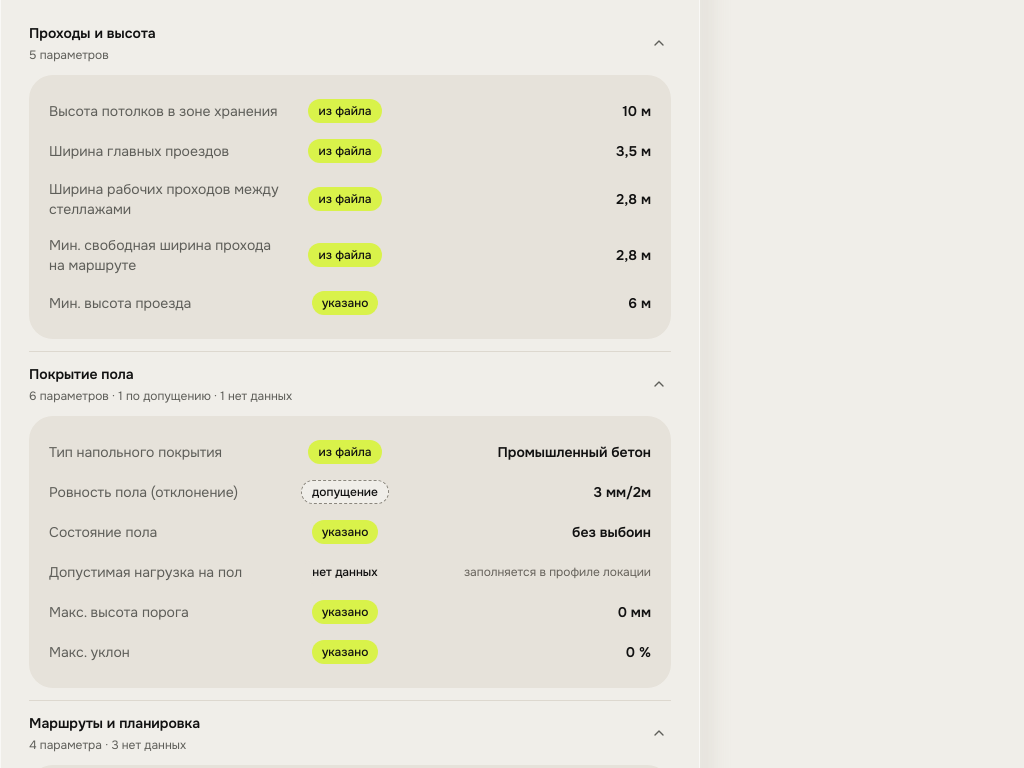
Scenario: Шаг 1 «Параметры проекта» (доска 16325, экран 1.1; PRD 11.2) › «всё раскрыто» (16992:10): группы, разбор нагрузки и все параметры локации открыты, поповер закрыт
(page scrolled)
# Раскрытое можно свернуть — как в обычном виде.
What coordinates should you click on to do the following:
click the button "Покрытие пола 6 параметров · 1 по допущению · 1 нет данных"
I would click on:
 (81, 374)
Its box is [29,364,671,404].
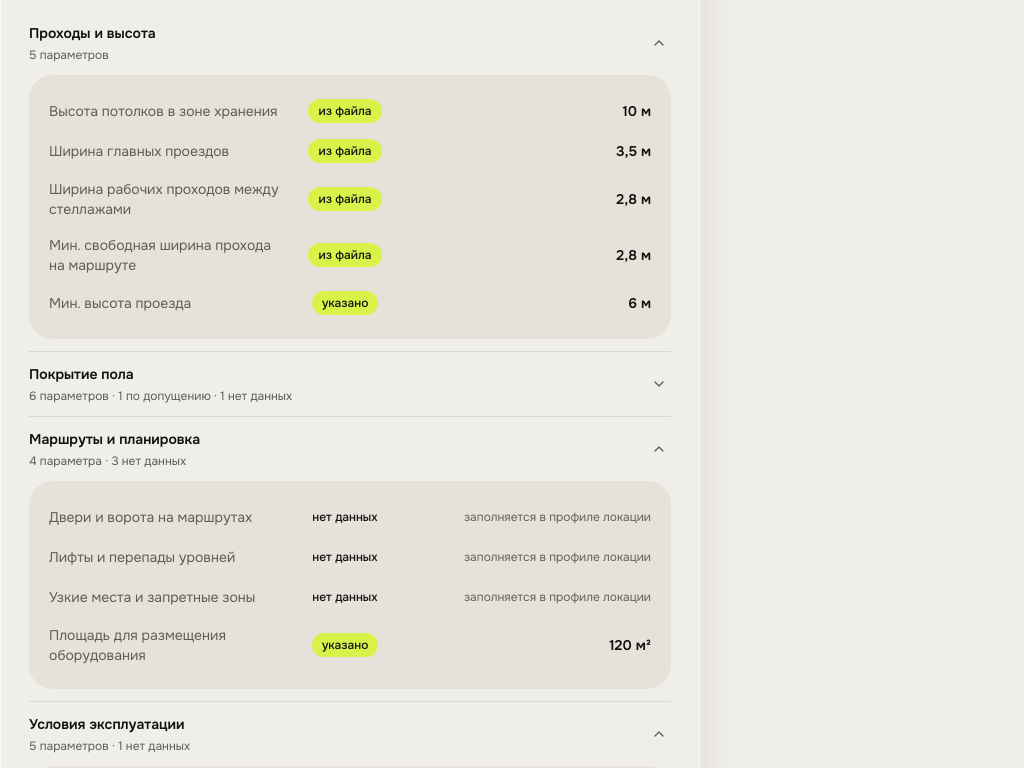
expect the button "Покрытие пола 6 параметров · 1 по допущению · 1 нет данных" is collapsed: met, box [29,364,671,404]
